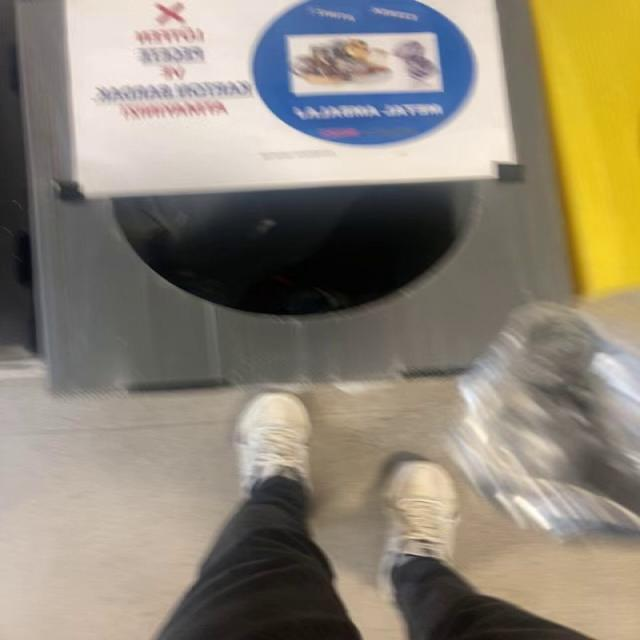metal: (448, 303, 639, 538)
